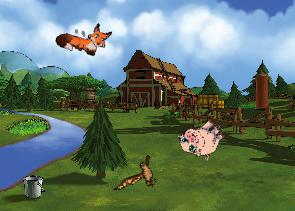eagle: (113, 147, 166, 205)
fox: (54, 13, 113, 61)
pig: (174, 110, 230, 166)
